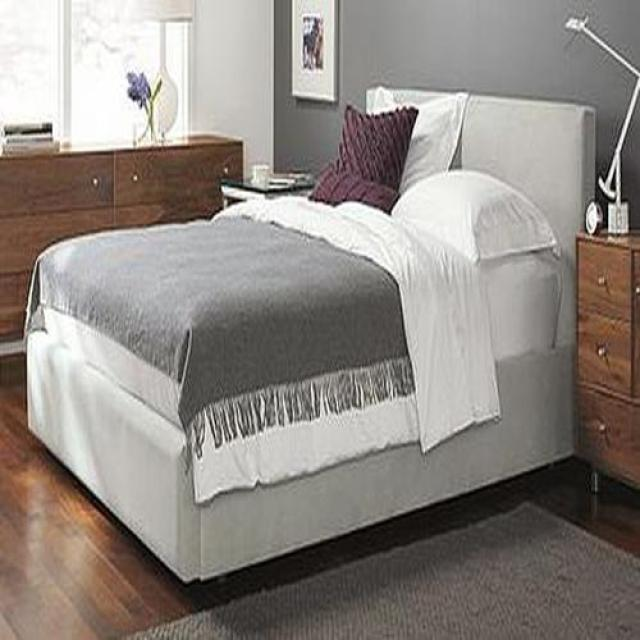bed: (23, 95, 595, 586)
